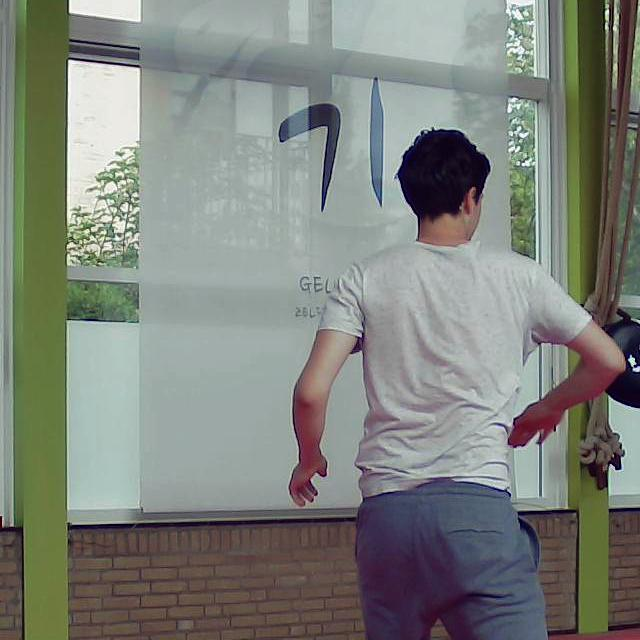paddle: (599, 314, 640, 421)
